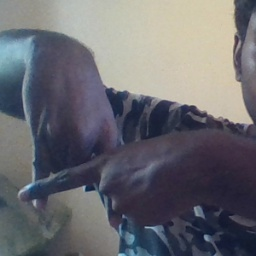H: (22, 110, 139, 231)
